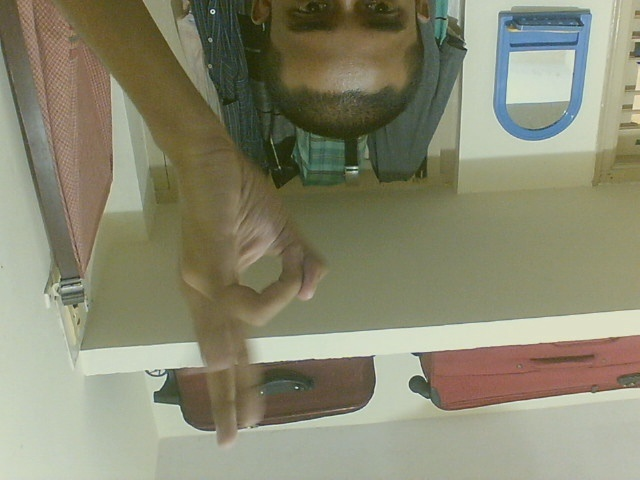hand: (157, 134, 334, 454)
